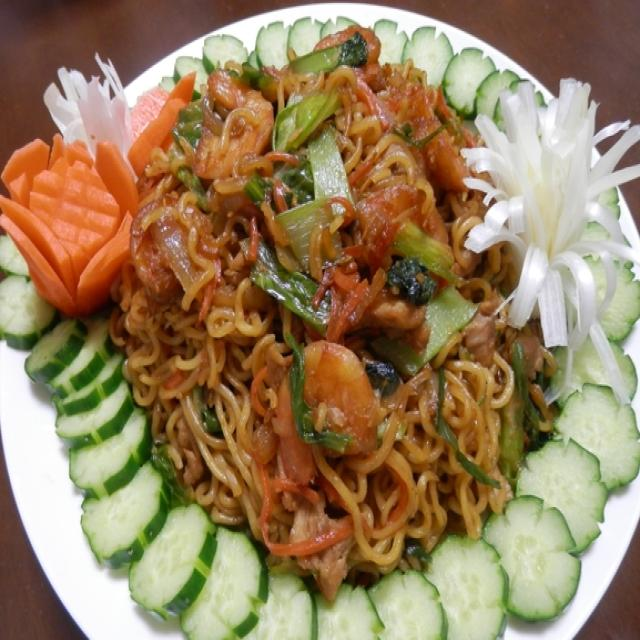面条主食: (26, 15, 634, 625)
